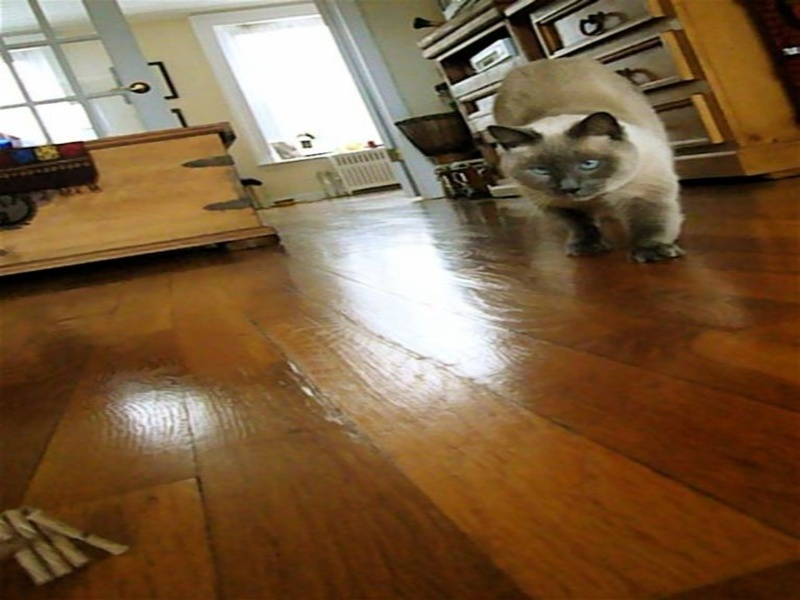cat: (467, 44, 694, 263)
